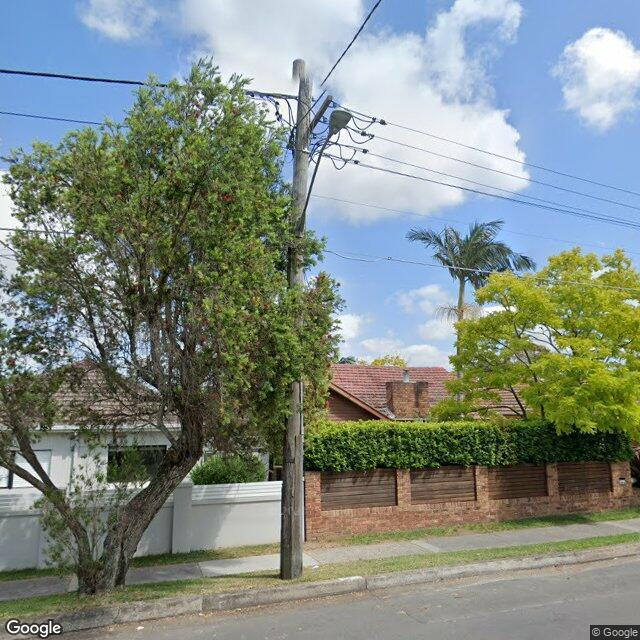crossarm: (307, 94, 333, 136)
streetlight: (298, 109, 352, 232)
timber-pole: (278, 61, 308, 581)
